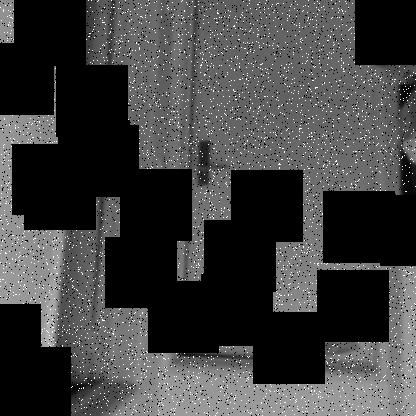Porte: (157, 1, 393, 383)
